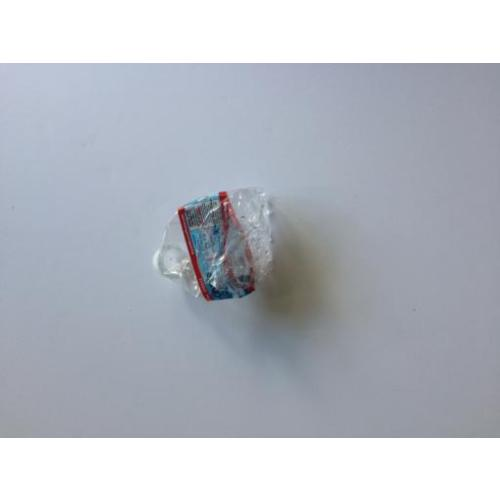plastic: (161, 187, 277, 302)
